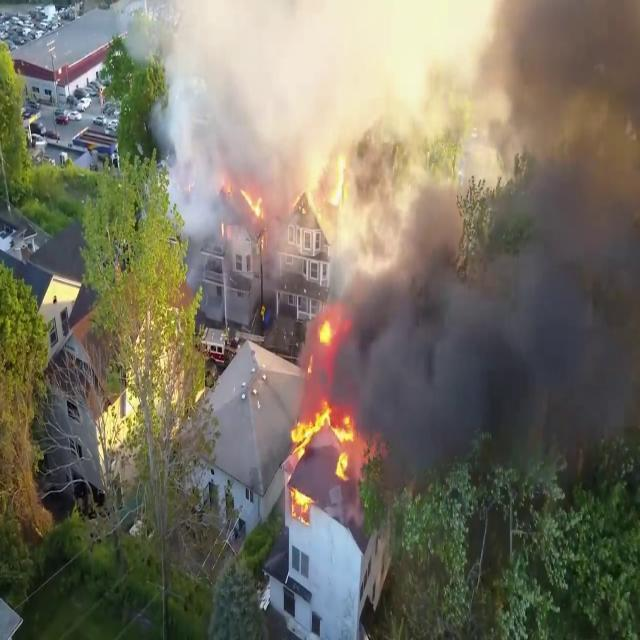Fire: (284, 390, 364, 516)
Smoke: (333, 0, 640, 506), (146, 0, 318, 246)
